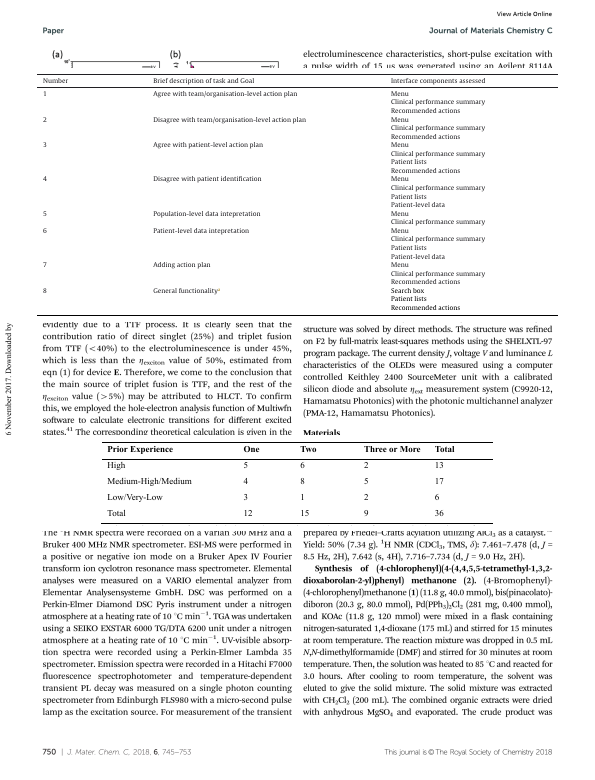borderless: (36, 73, 558, 315), (101, 440, 493, 523)
cell: (389, 142, 485, 176), (389, 176, 485, 210), (389, 228, 485, 262), (389, 116, 485, 142), (389, 91, 485, 116), (389, 262, 485, 287), (389, 288, 461, 313), (389, 210, 485, 227), (152, 116, 306, 125), (152, 91, 298, 99), (152, 176, 262, 185), (152, 210, 261, 219), (152, 77, 255, 86), (152, 142, 263, 150), (389, 77, 486, 86), (106, 477, 192, 487), (152, 228, 249, 236), (106, 444, 173, 454), (152, 287, 221, 296), (362, 444, 421, 454), (106, 493, 163, 503), (152, 262, 211, 270), (41, 77, 69, 86), (433, 444, 455, 454), (106, 461, 126, 471), (106, 509, 126, 519), (242, 444, 260, 454), (299, 444, 317, 454), (433, 461, 444, 471), (433, 477, 444, 487), (242, 509, 253, 519), (299, 509, 310, 519), (433, 509, 444, 519), (362, 461, 369, 471), (362, 477, 369, 487), (362, 493, 369, 503), (433, 493, 440, 503), (362, 509, 369, 519), (242, 461, 248, 471), (299, 461, 305, 471), (242, 477, 248, 487), (299, 477, 305, 487), (242, 493, 248, 503), (299, 493, 305, 503), (41, 116, 47, 125), (41, 176, 47, 185), (41, 210, 47, 219), (41, 91, 47, 99), (41, 142, 47, 150), (41, 228, 47, 236), (41, 262, 47, 270), (41, 288, 47, 296)
